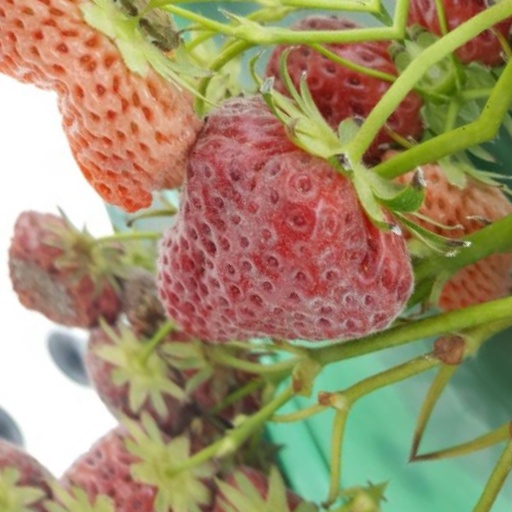Powdery Mildew Fruit: (115, 114, 364, 395)
